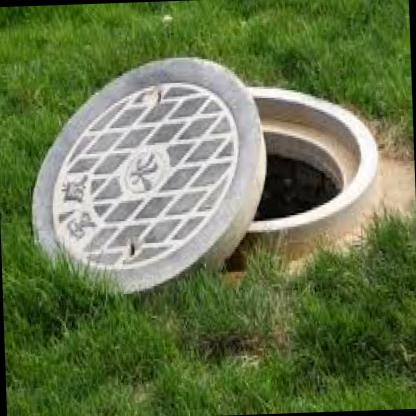manholes: (3, 40, 390, 310)
